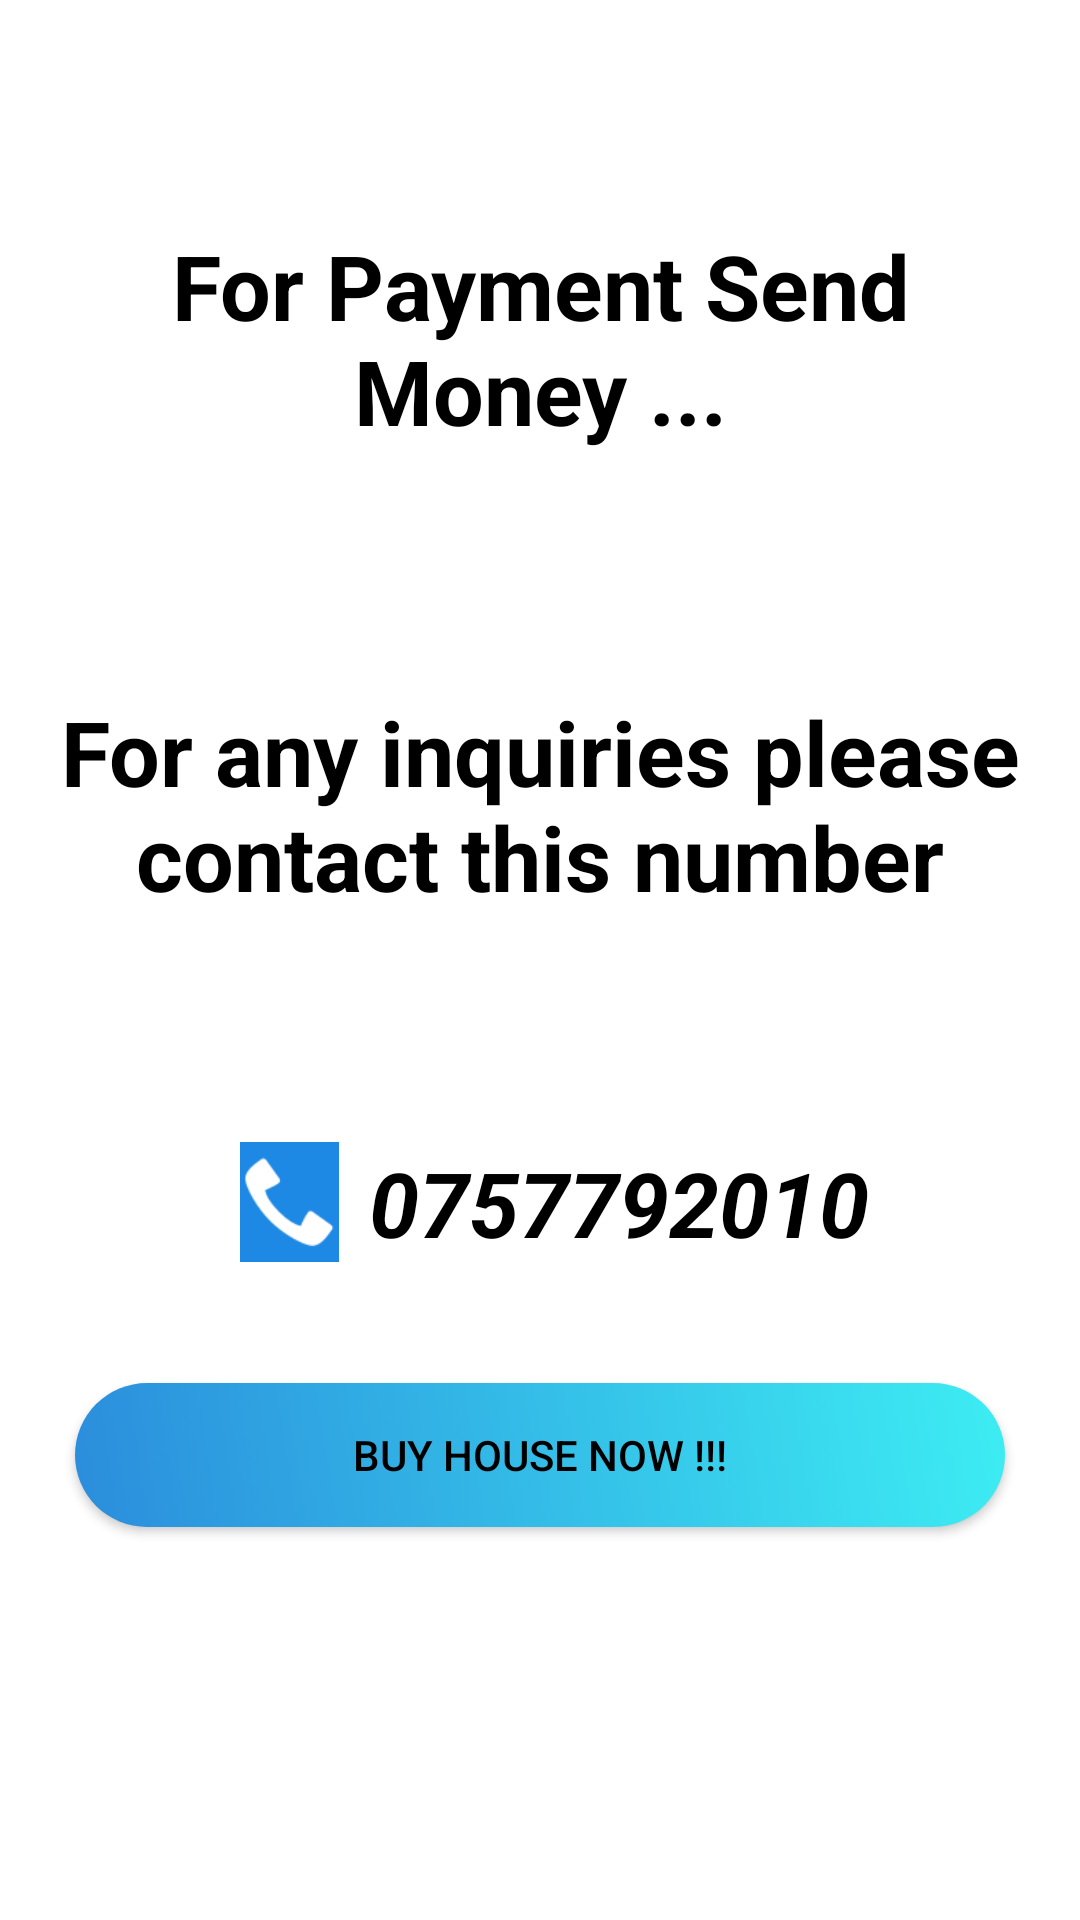

Where icons sit on this 1080 × 1920 app screen, as detection(x1, y1, x2, y2):
phone call: detection(240, 1142, 339, 1262)
